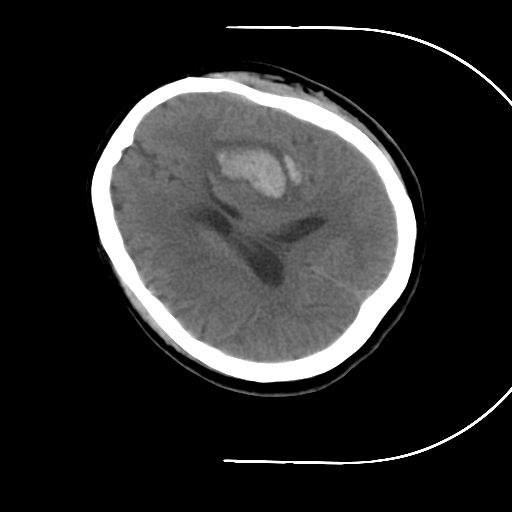a: (193, 125, 315, 215)
